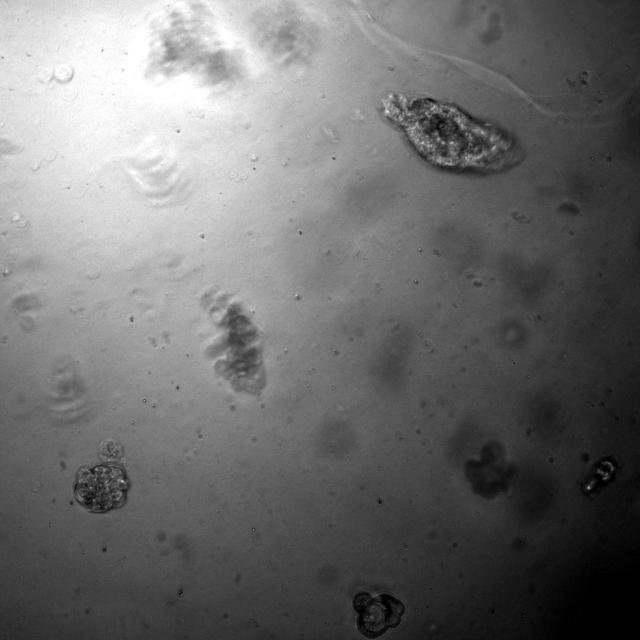organoid: (382, 93, 519, 172), (201, 290, 266, 395), (74, 437, 129, 513), (465, 440, 516, 498), (352, 591, 404, 639), (581, 457, 618, 495)
